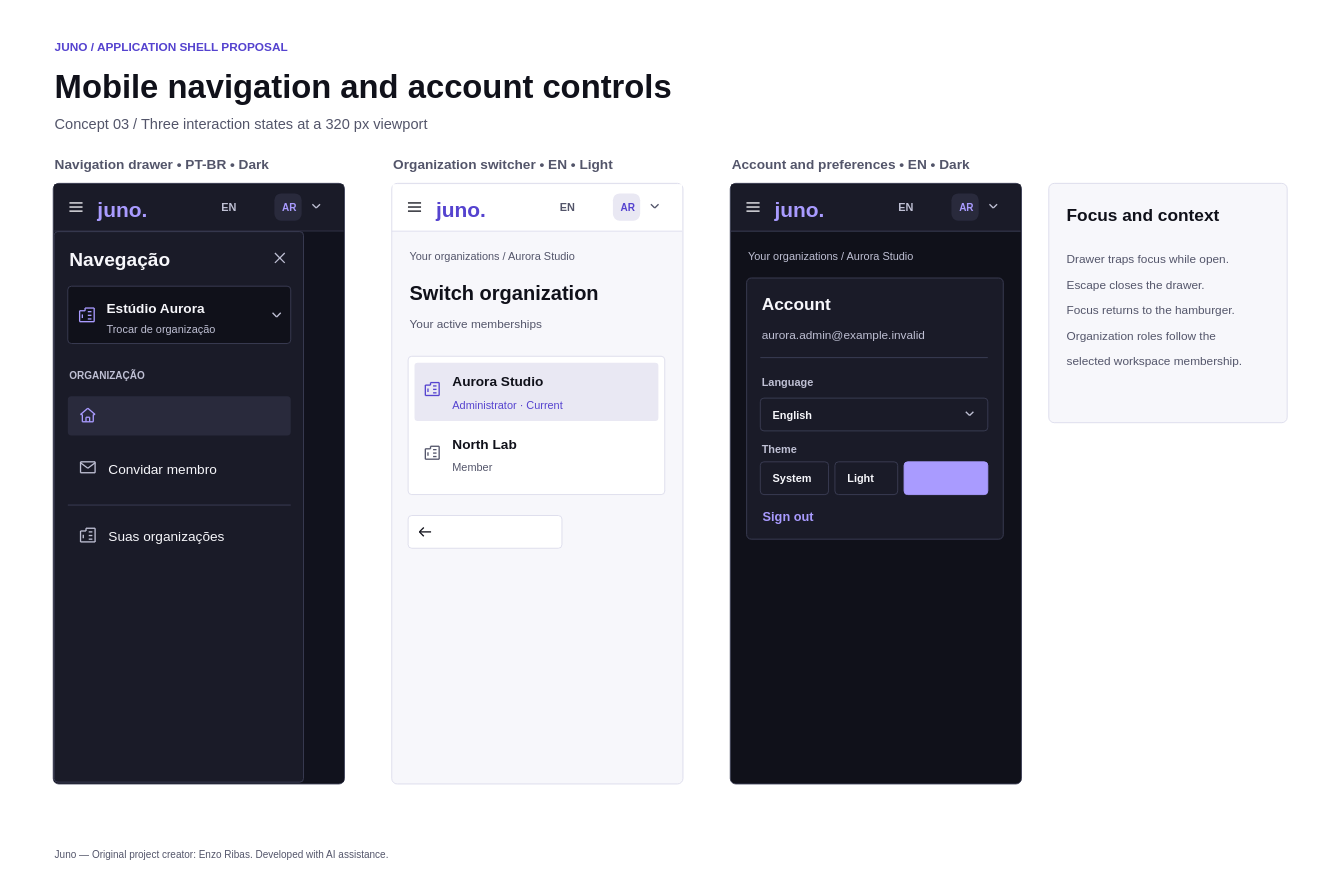
Image size: 1340x885. Some labels were removed from this diagram. Each missing label, with the centre of its shape:
All organizations: the point at 484,531
Dark: the point at 945,478
Painel: the point at 178,415
